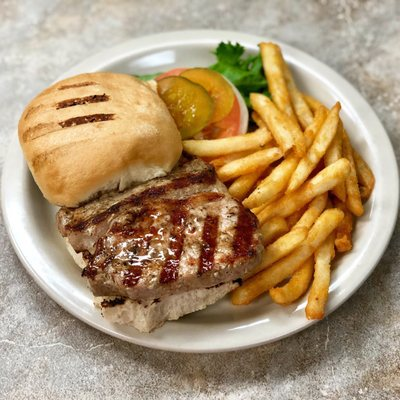curry: (207, 40, 269, 94)
soup: (58, 156, 264, 334), (18, 72, 185, 210)
